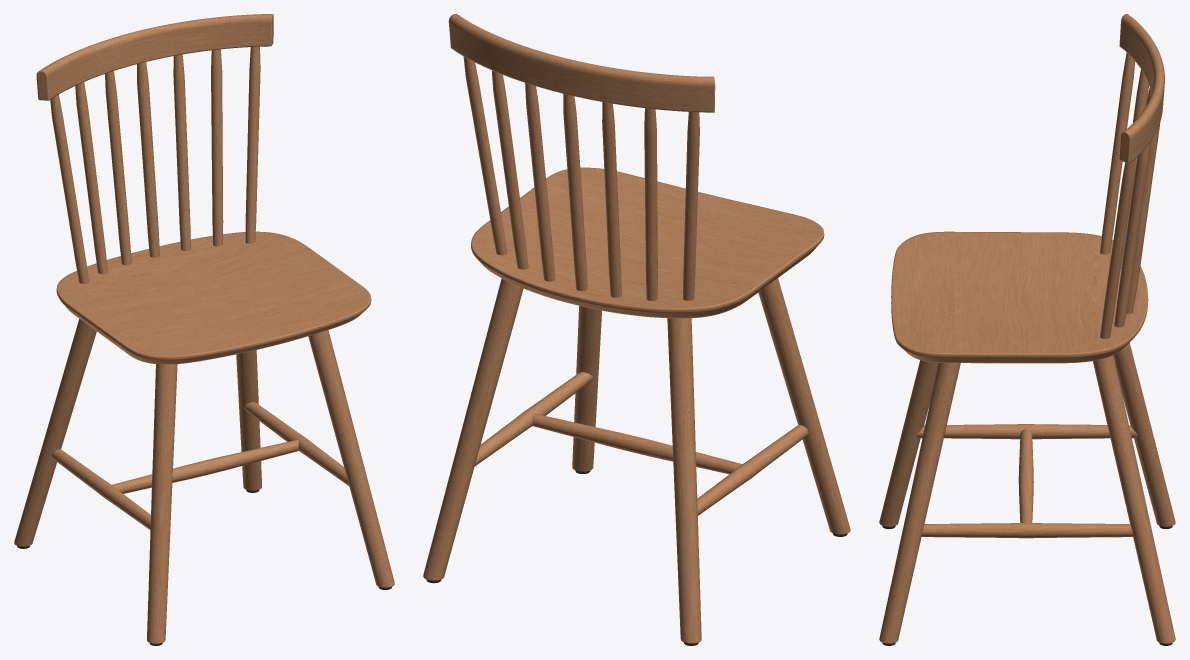
File: chair87638.glb
The picture shows the model from 3 angles, left to right: view 1: azimuth 30°, elevation 25°; view 2: azimuth 150°, elevation 25°; view 3: azimuth 270°, elevation 25°; orthographic projection. The views are drawn at different scales.
Parts seen in each view (by area): view 1: chair87638; view 2: chair87638; view 3: chair87638.
Part boxes in pixels (box(x1,y1,x2,y2)): chair87638: box(14, 14, 394, 645); chair87638: box(423, 14, 850, 645); chair87638: box(879, 14, 1175, 645).
Size of the model in its own units: 0.42 by 0.8 by 0.42.
1 material, 1 textured.
